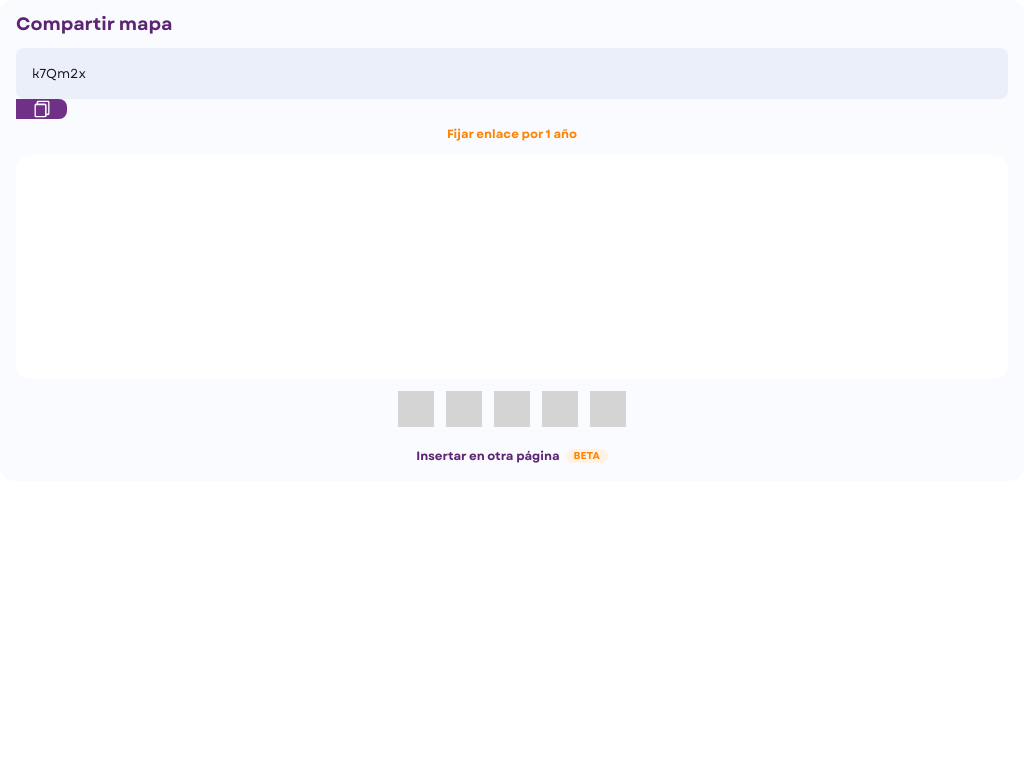
Test: SharePanel — con el enlace listo › si Colibri no cargo, lo dice en pantalla en vez de fallar callado
Click the button "Insertar en otra página BETA": (512, 456) [416, 447, 608, 465]
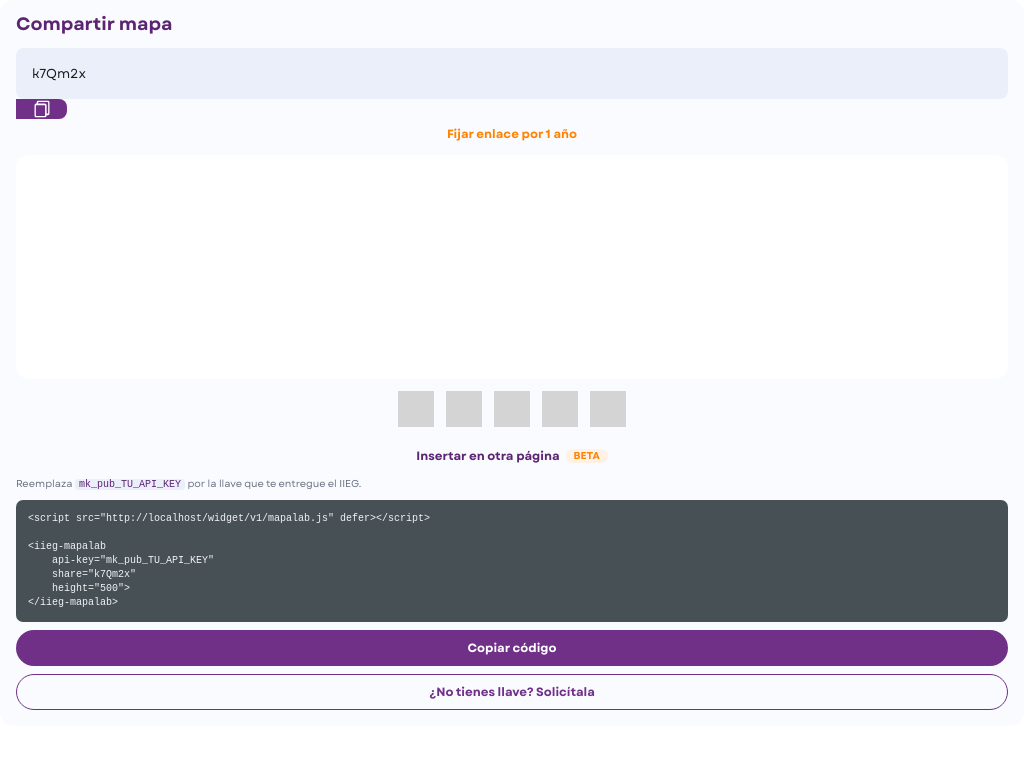
Click the button "¿No tienes llave? Solicítala": (512, 692) [16, 674, 1008, 710]
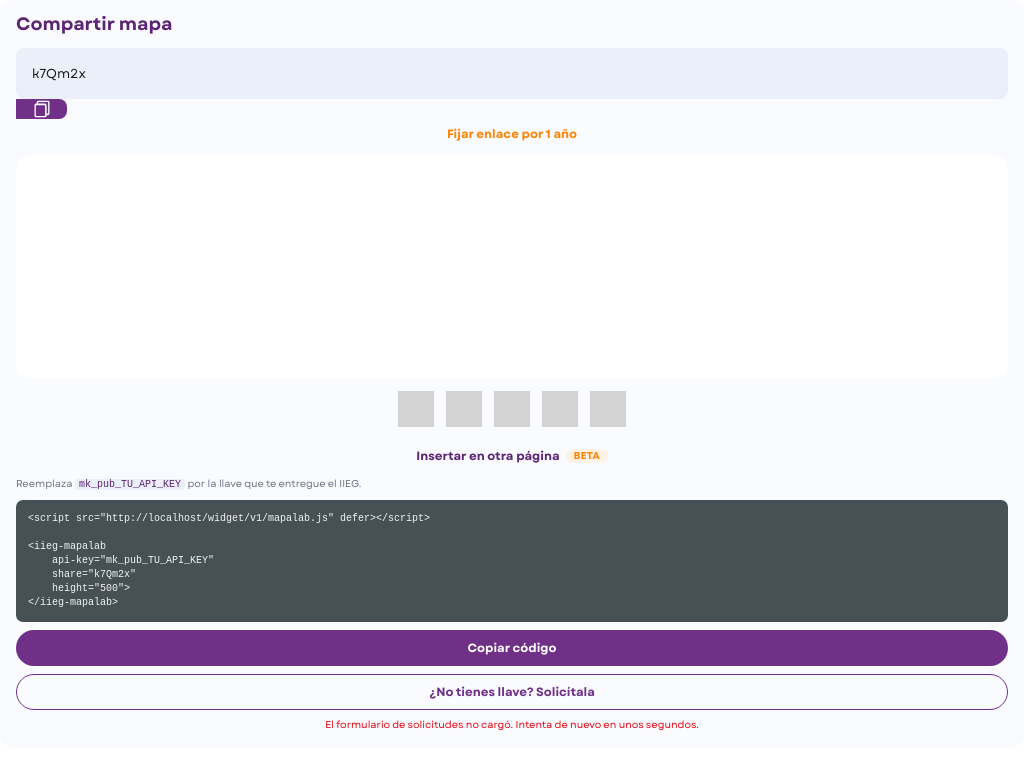
Expected: the message shows "no cargó", [325, 717, 699, 732]
